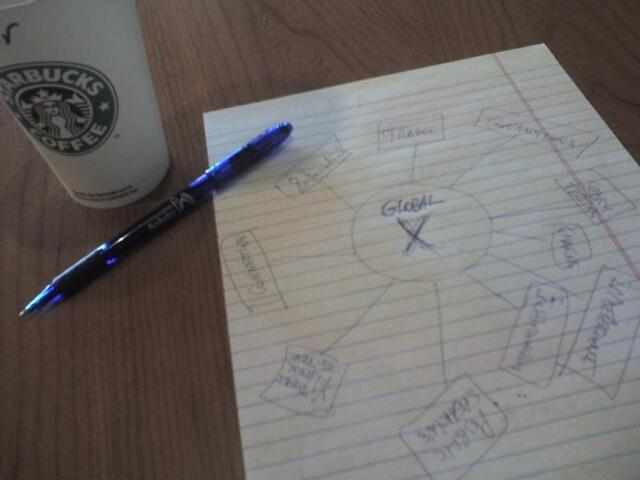PEN: (0, 85, 315, 343)
